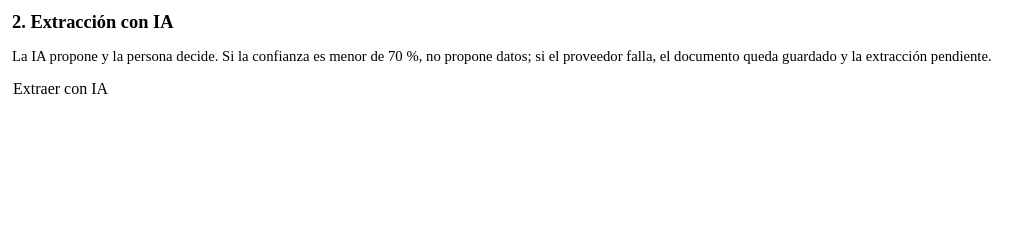
ExtraccionesSection › extrae con IA el documento seleccionado y resume el resultado
This screenshot has width=1036, height=226.
Click the button "Extraer con IA" at (61, 89), box [12,79,109,99]
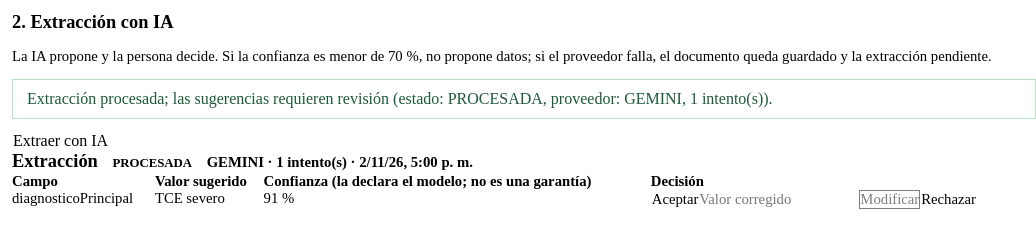
Result: the text "Extracción procesada; las sugerencias requieren revisión (estado: PROCESADA, proveedor: GEMINI, 1 intento(s))" is shown at [27,90,773,107]
Result: the text "TCE severo" is shown at [155,190,264,209]
Result: the text "91 %" is shown at [264,190,651,209]
